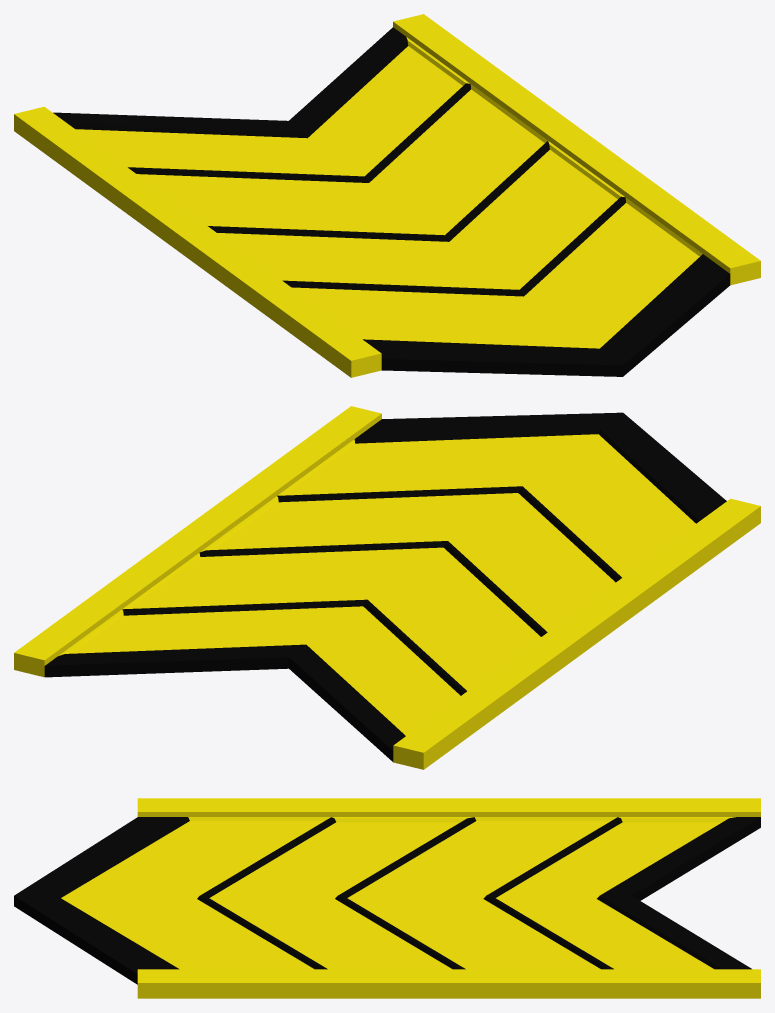
File: burster.fbx
3 renders of one model, top to bottom at view 1: azimuth 30°, elevation 25°; view 2: azimuth 150°, elevation 25°; view 3: azimuth 270°, elevation 25°, orthographic. The views are drawn at different scales.
Parts seen in each view (by area): view 1: Cube; view 2: Cube; view 3: Cube.
Boxes of the visible parts, x1,y1,x2,y2 form: Cube: (14,14,760,377); Cube: (14,406,760,769); Cube: (14,798,760,998).
Bounding box in the file's own units: 193 × 7.68 × 330.
